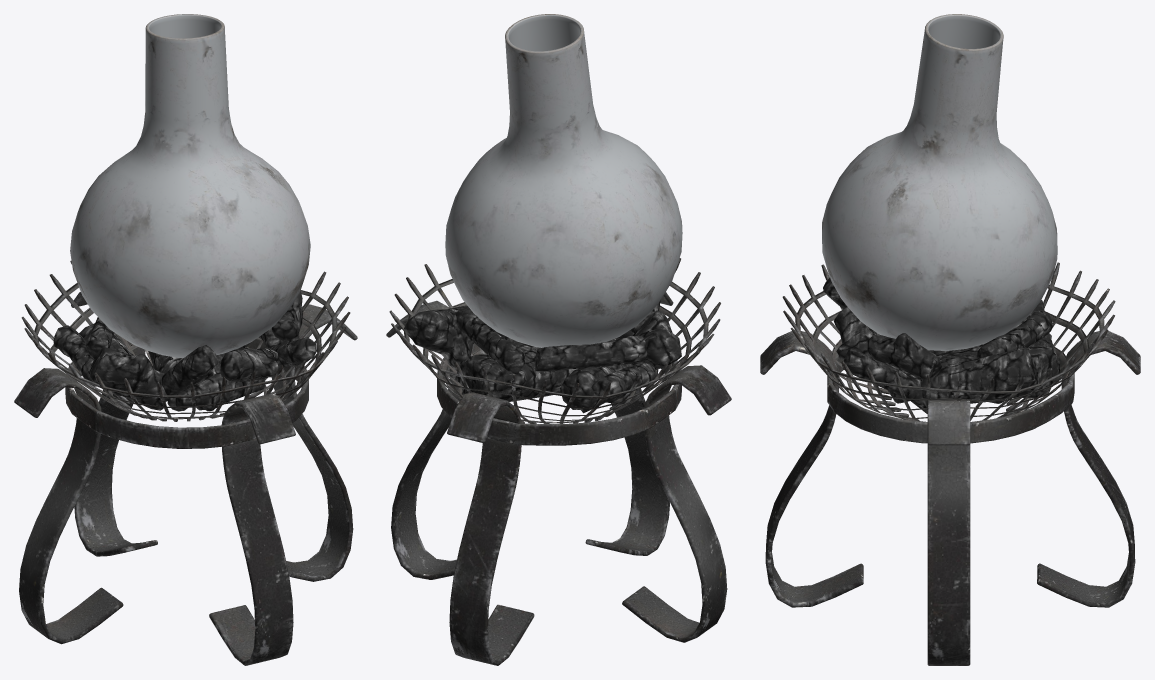
The model's file is Flask02.fbx.
The picture shows the model from 3 angles, left to right: view 1: azimuth 30°, elevation 25°; view 2: azimuth 150°, elevation 25°; view 3: azimuth 270°, elevation 25°; orthographic projection.
Visible parts, largest first — view 1: KuJ AL Flask 02.Shape; view 2: KuJ AL Flask 02.Shape; view 3: KuJ AL Flask 02.Shape.
Boxes of the visible parts, x1,y1,x2,y2 form: KuJ AL Flask 02.Shape: [14, 14, 357, 665]; KuJ AL Flask 02.Shape: [386, 14, 731, 665]; KuJ AL Flask 02.Shape: [760, 14, 1140, 665].
Size of the model in its own units: 22.49 by 38.14 by 22.83.
4 materials, 3 textured.
